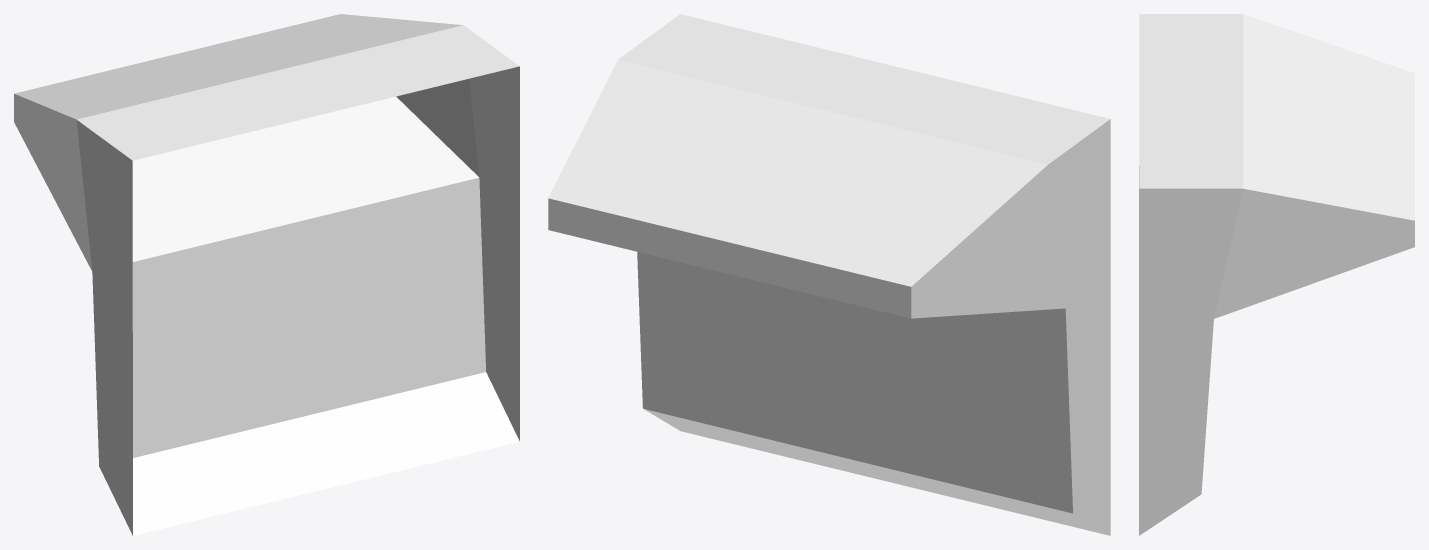
The model's file is Itr_Obj_Fridge1_Icemachine_01.FBX.
The picture shows the model from 3 angles, left to right: view 1: azimuth 30°, elevation 25°; view 2: azimuth 150°, elevation 25°; view 3: azimuth 270°, elevation 25°; orthographic projection. The views are drawn at different scales.
Parts seen in each view (by area): view 1: Itr_Obj_Fridge1_Icemachine_01; view 2: Itr_Obj_Fridge1_Icemachine_01; view 3: Itr_Obj_Fridge1_Icemachine_01.
Part boxes in pixels (x1,y1,x2,y2): Itr_Obj_Fridge1_Icemachine_01: (14,14,519,535); Itr_Obj_Fridge1_Icemachine_01: (548,14,1110,535); Itr_Obj_Fridge1_Icemachine_01: (1139,14,1414,535).
Size of the model in its own units: 13.41 by 12.43 by 8.95.
